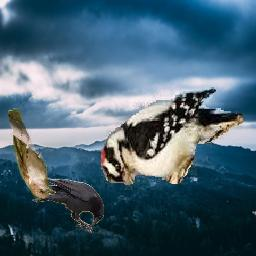Crow: (32, 177, 104, 233)
Cuckoo: (9, 109, 56, 200)
Woodpecker: (102, 88, 247, 191)
